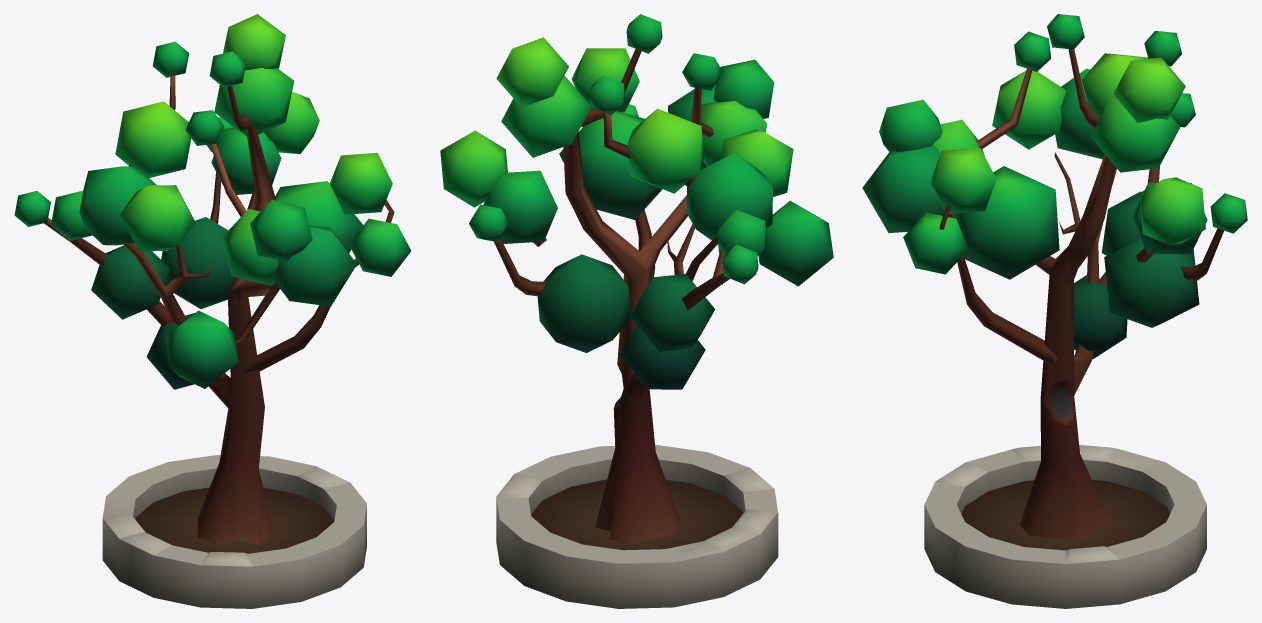
The model's file is Tree_1F.fbx.
The picture shows the model from 3 angles, left to right: view 1: azimuth 30°, elevation 25°; view 2: azimuth 150°, elevation 25°; view 3: azimuth 270°, elevation 25°; orthographic projection. The views are drawn at different scales.
Parts seen in each view (by area): view 1: Tree_1F; view 2: Tree_1F; view 3: Tree_1F.
Part boxes in pixels (x1=…): Tree_1F: x1=14, y1=14, x2=411, y2=608; Tree_1F: x1=440, y1=14, x2=833, y2=608; Tree_1F: x1=862, y1=14, x2=1247, y2=608.
Bounding box in the file's own units: 5.12 × 8.32 × 5.46.
